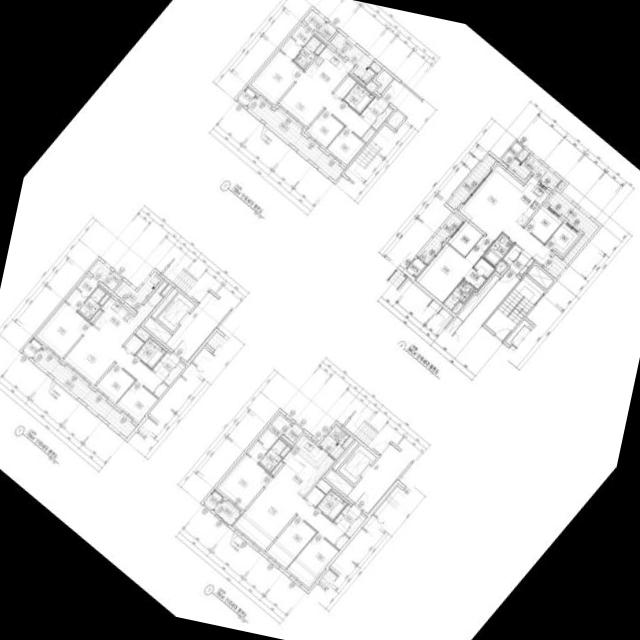background: (0, 0, 640, 640)
space_balconi: (31, 347, 135, 438), (246, 95, 343, 180), (542, 190, 598, 278), (446, 153, 495, 209), (329, 31, 374, 83), (416, 213, 461, 263), (507, 153, 560, 190), (112, 271, 161, 310), (318, 425, 348, 459), (212, 499, 239, 525), (302, 9, 325, 31)
space_bedroom: (415, 235, 491, 302), (35, 301, 90, 357), (216, 453, 271, 509), (285, 532, 338, 587), (250, 50, 302, 104), (265, 515, 315, 568), (116, 380, 156, 421), (95, 363, 134, 402), (305, 109, 343, 147), (523, 205, 561, 243), (326, 126, 364, 164), (544, 222, 577, 254)
space_dressroom: (246, 414, 289, 462), (279, 24, 312, 59), (65, 275, 97, 309), (463, 257, 493, 289)
space_elevator: (156, 292, 194, 331), (337, 444, 375, 483)
space_elevator_hall: (164, 291, 229, 361), (346, 443, 410, 513)
space_front: (332, 503, 361, 532), (151, 351, 180, 380), (359, 96, 387, 125), (509, 249, 533, 275)
space_kitchen: (93, 281, 166, 345), (276, 434, 333, 496), (502, 176, 548, 226), (305, 46, 353, 92)
space_living_room: (458, 164, 551, 264), (233, 473, 343, 550), (63, 323, 162, 392), (278, 70, 370, 137)
space_multipurpose_space: (447, 220, 482, 256)
space_other: (456, 273, 499, 321), (87, 259, 121, 290), (150, 287, 177, 318), (331, 440, 358, 470), (142, 316, 171, 343), (323, 468, 352, 495), (526, 264, 553, 289), (333, 75, 356, 99), (163, 361, 184, 385), (500, 141, 521, 165), (344, 514, 365, 537), (374, 69, 393, 94), (371, 106, 391, 129), (304, 486, 324, 506), (123, 334, 143, 354), (282, 423, 302, 442), (502, 244, 521, 264), (386, 109, 404, 128), (317, 22, 336, 40), (152, 382, 167, 397), (334, 534, 348, 549), (360, 127, 374, 142), (134, 327, 148, 341), (270, 461, 282, 474), (368, 61, 381, 73), (516, 148, 528, 161), (494, 259, 506, 272), (364, 80, 376, 92), (450, 301, 462, 313), (89, 309, 100, 322), (279, 445, 290, 457), (313, 42, 324, 54), (98, 293, 108, 305), (341, 436, 351, 447), (160, 284, 170, 295), (556, 180, 564, 189)
space_outdoor_room: (202, 489, 222, 509), (405, 257, 424, 277), (236, 86, 255, 105)
space_staircase: (484, 275, 543, 340)
space_toilet: (481, 233, 513, 266), (315, 489, 346, 520), (134, 337, 165, 368), (342, 82, 373, 113), (442, 279, 474, 309), (77, 286, 105, 320), (292, 35, 320, 69), (258, 438, 286, 472)
